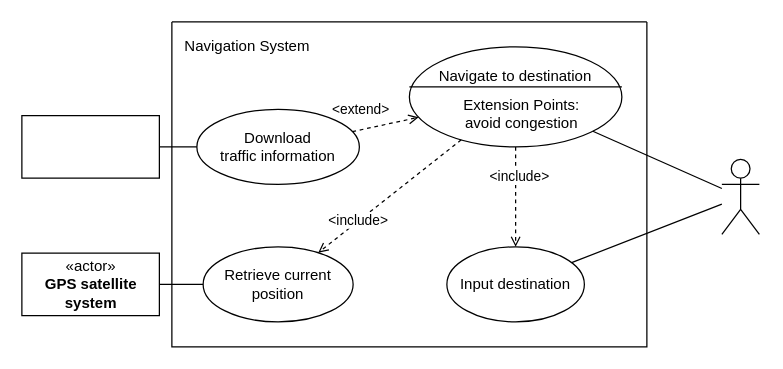
This 783x369 diagram has some shape labels left out. Here are the shapes that lost their labels. From the top down, the centre of each, then its label:
point 90,146: «actor» Traffic information server
point 740,196: Driver
